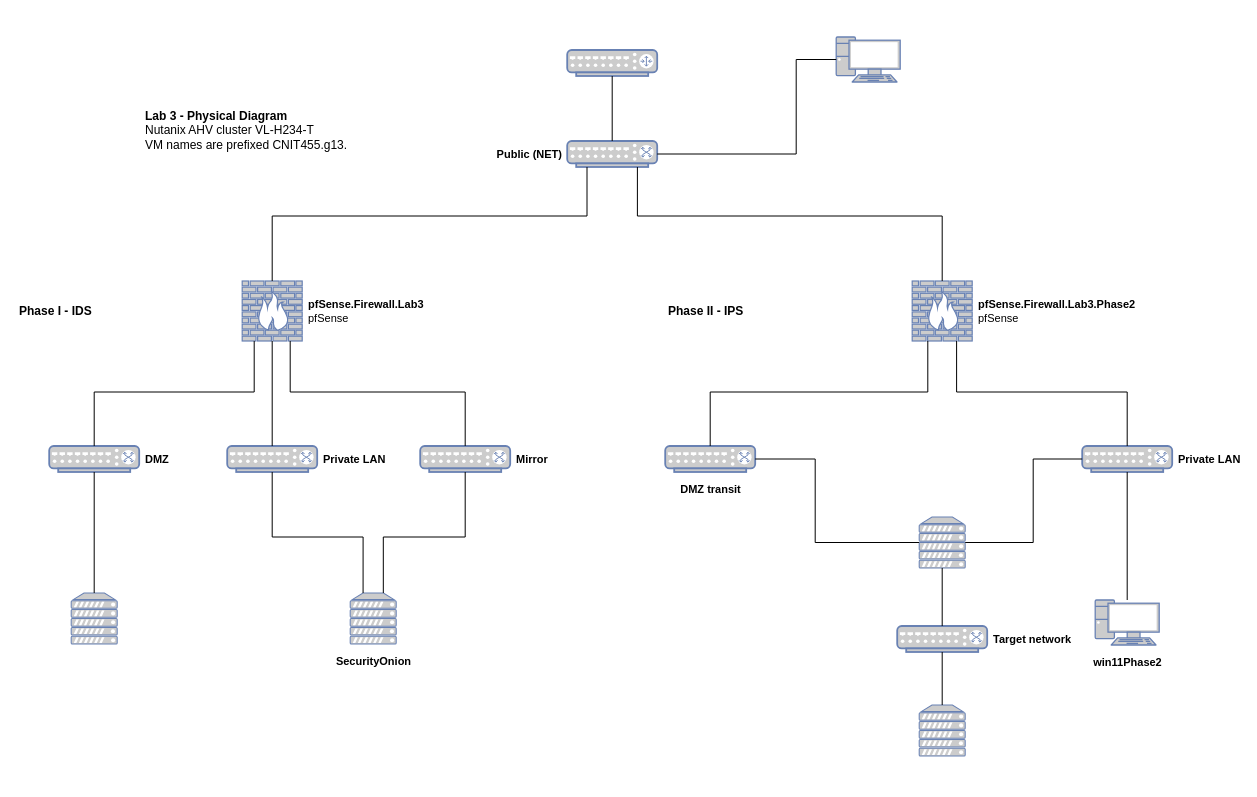
The diagram is 1257 pixels wide and 797 high, and some of its shapes have lost their labels. Each missing label, with the centre of its shape:
Kali: point 868,59
Metasploit: point 94,618
Metasploitable.Lab3.Phase2: point 942,730
Suricata: point 942,542
Upstream gateway HSRP: point 612,62
